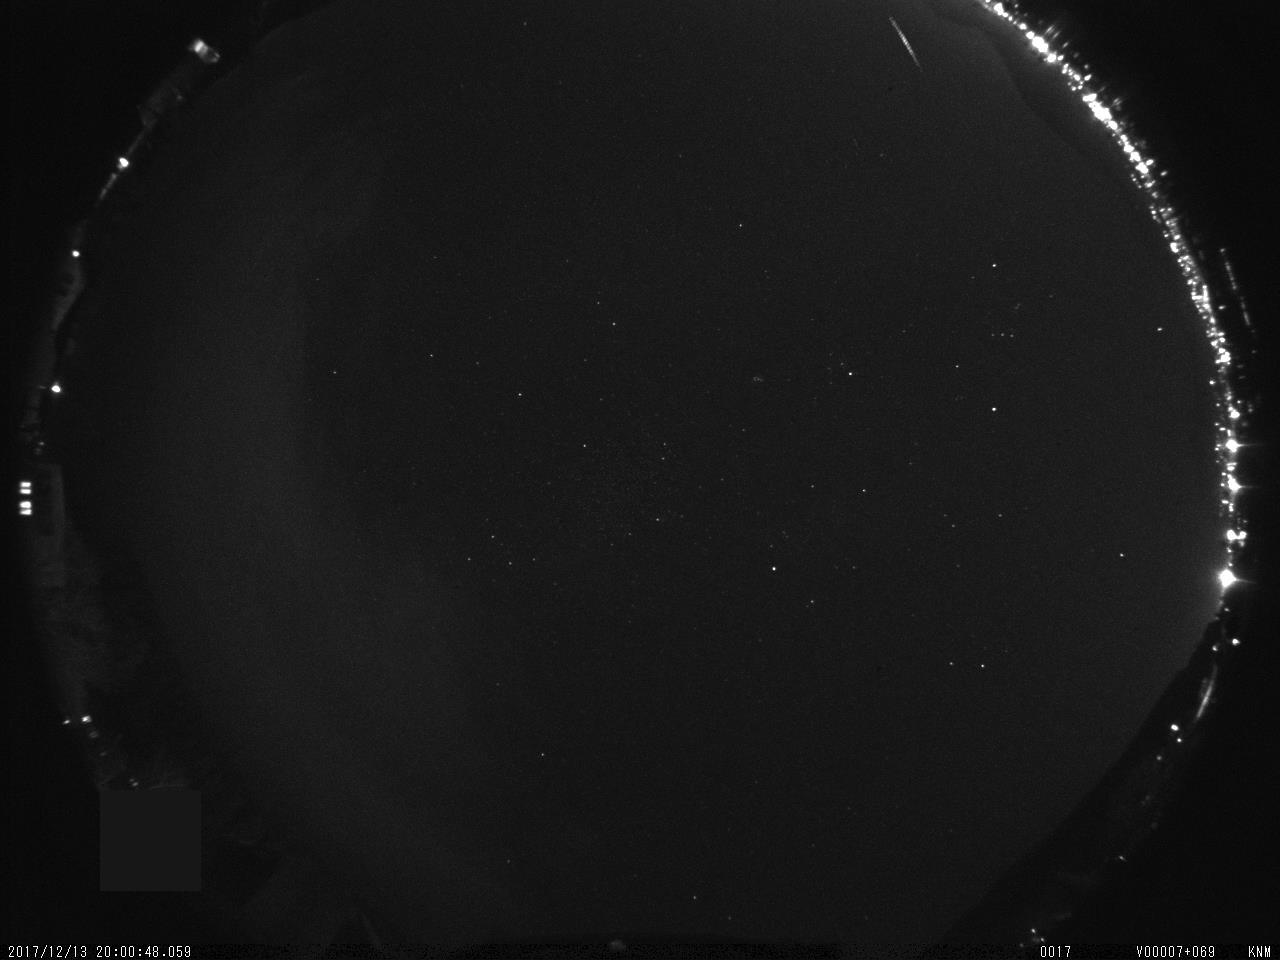meteor: (869, 3, 934, 81)
